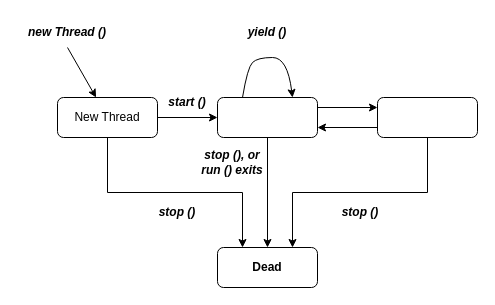
The diagram is 495 pixels wide and 305 high, and some of its shapes have lost their labels. The shapes that lost their labels are listed below. From the top down, each one's centre as x and y in pixels, then its label:
At point 267,117: "Runnable".
At point 427,117: "Not Runnable".
